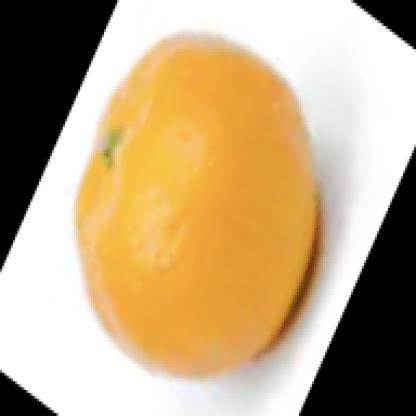fresh: (76, 34, 318, 373)
